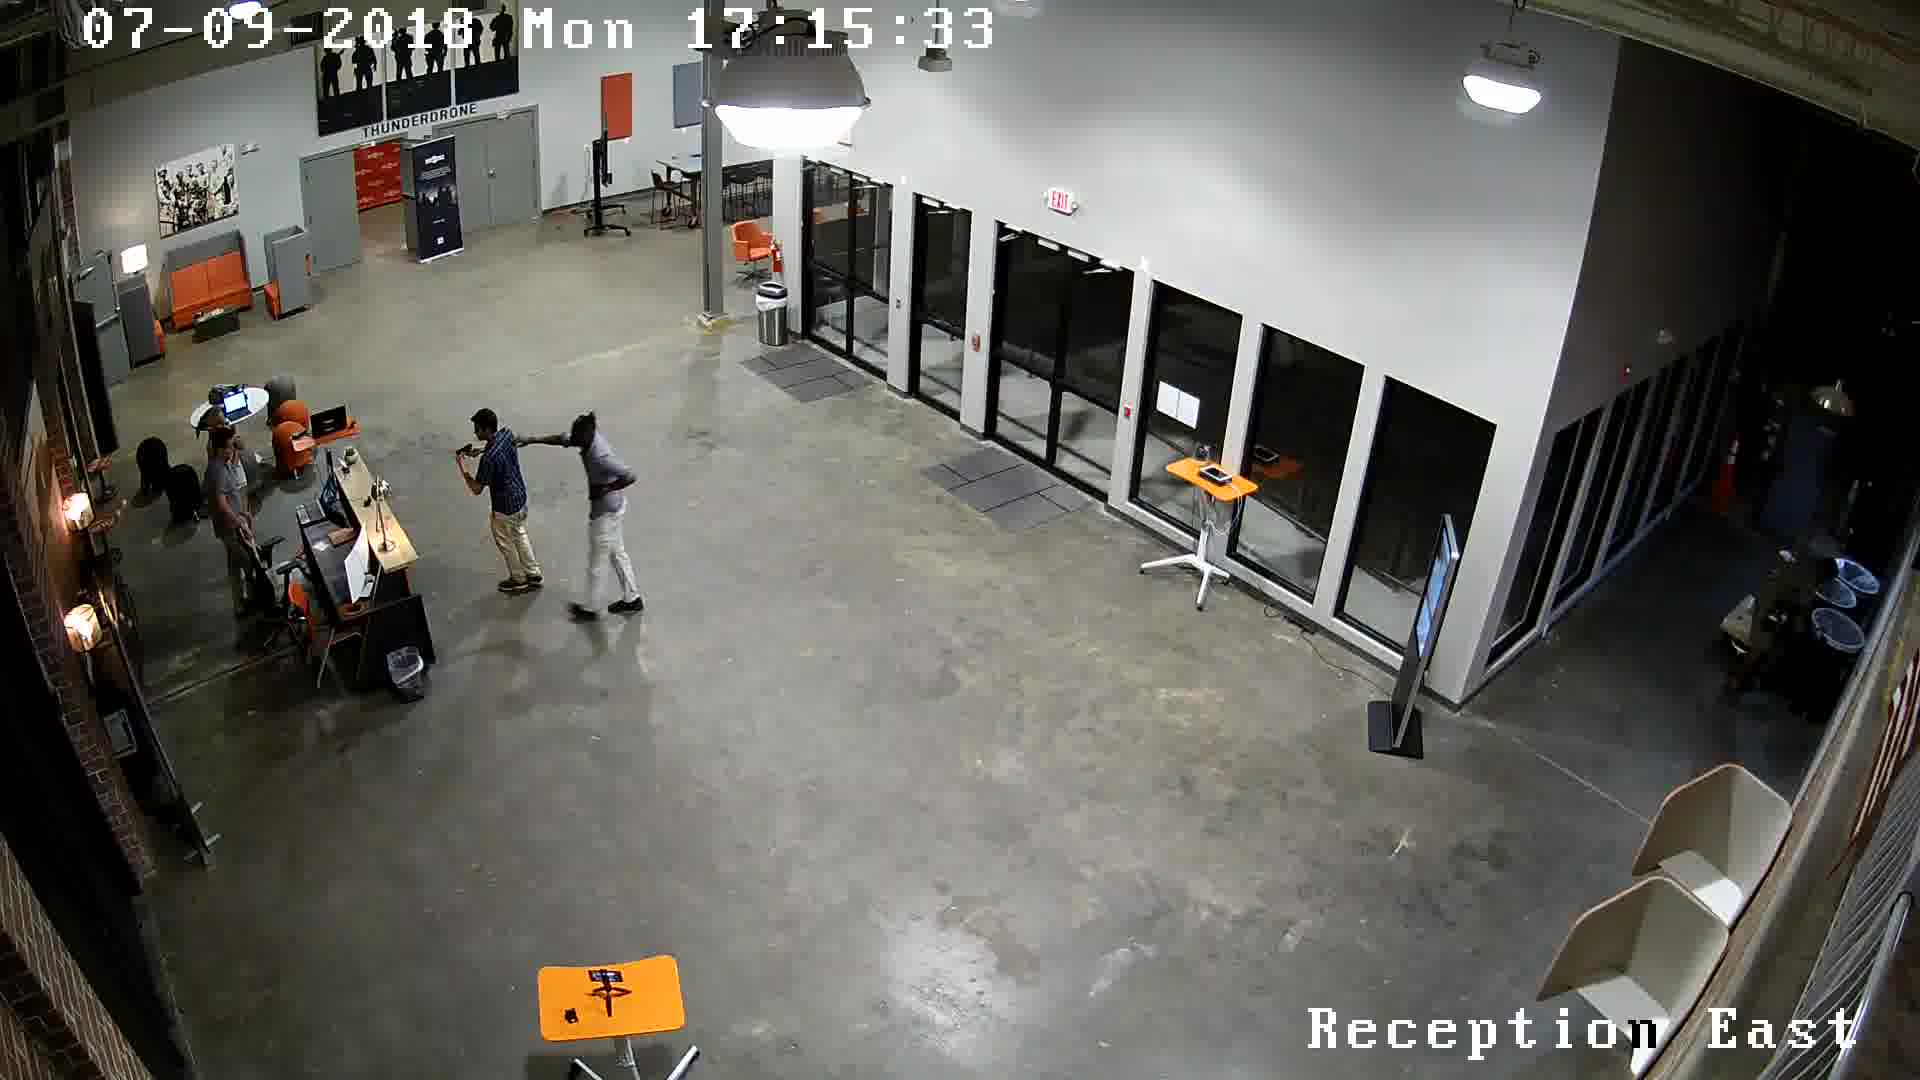pistol: (448, 440, 477, 469)
